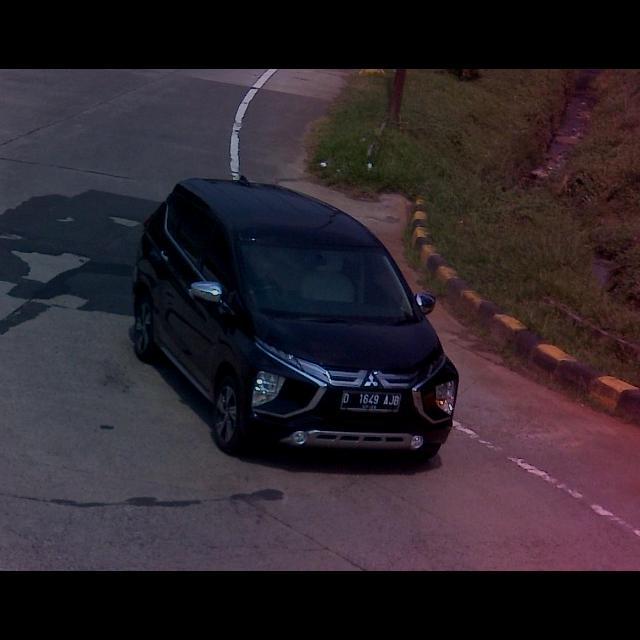plate: (340, 386, 404, 414)
